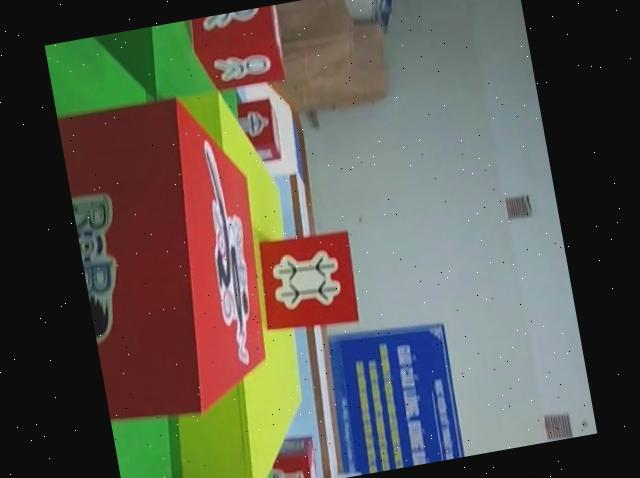R1: (55, 83, 285, 429)
R2 Fake: (230, 95, 288, 169)
R2 Real: (248, 227, 362, 339), (185, 4, 289, 94), (255, 435, 317, 478)
